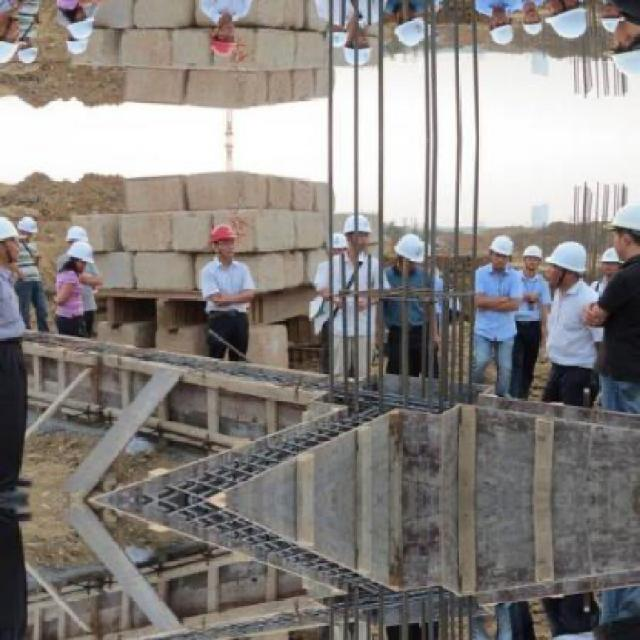helmet: (606, 200, 639, 260), (606, 18, 639, 78), (549, 238, 589, 284), (548, 0, 589, 40), (392, 9, 430, 48), (392, 231, 430, 269), (342, 26, 376, 65), (342, 214, 376, 252), (2, 212, 24, 265), (2, 12, 24, 65), (485, 9, 517, 45), (209, 220, 240, 257), (209, 20, 240, 57), (485, 234, 517, 269), (64, 3, 94, 39), (64, 240, 94, 275), (600, 241, 626, 277), (600, 1, 626, 37), (520, 8, 546, 37), (520, 242, 546, 270), (326, 229, 348, 257), (326, 20, 348, 48), (17, 214, 38, 240), (68, 226, 89, 252), (68, 26, 89, 52), (17, 39, 38, 64)
